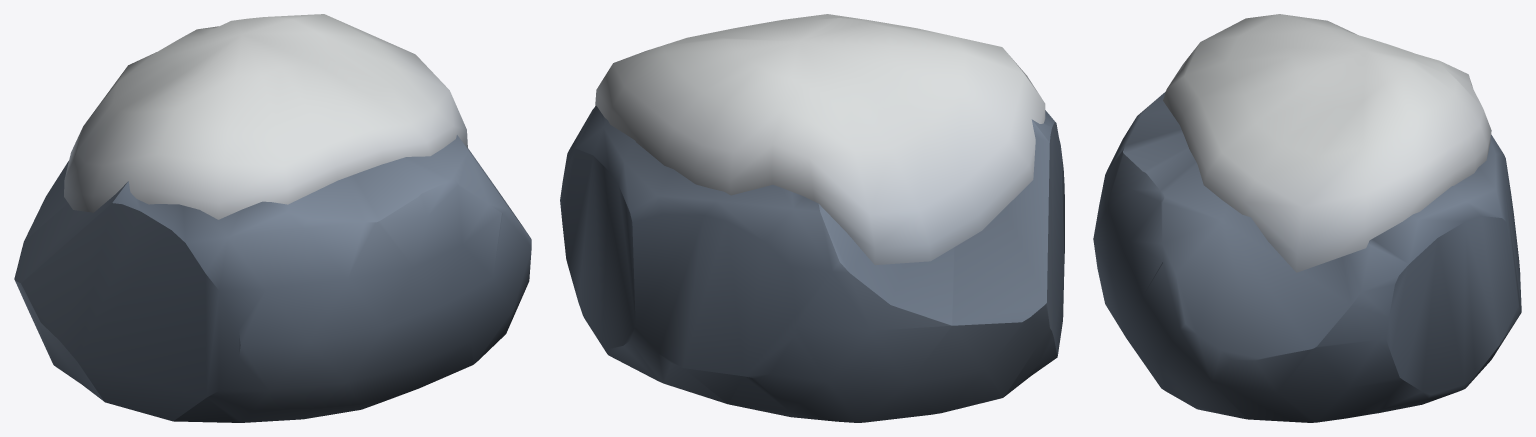
The model's file is snow_rock_a.glb.
3 views of the same model, side by side, from view 1: azimuth 30°, elevation 25°; view 2: azimuth 150°, elevation 25°; view 3: azimuth 270°, elevation 25° (orthographic). The views are drawn at different scales.
Visible parts, largest first — view 1: snow_rock_a; view 2: snow_rock_a; view 3: snow_rock_a.
Part boxes in pixels (<box>): snow_rock_a: <box>14,14,531,422</box>; snow_rock_a: <box>560,14,1064,422</box>; snow_rock_a: <box>1093,14,1521,422</box>.
Bounding box in the file's own units: 1.58 × 0.9484 × 1.32.
